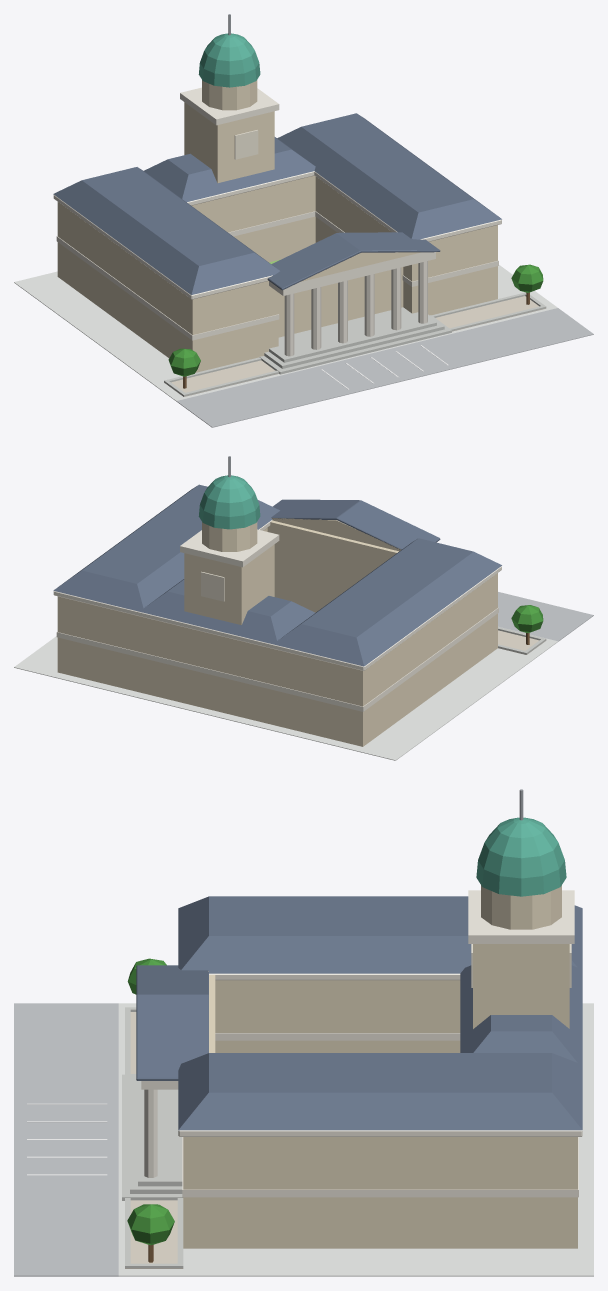
File: townhall.glb
3 renders of one model, top to bottom at view 1: azimuth 30°, elevation 25°; view 2: azimuth 150°, elevation 25°; view 3: azimuth 270°, elevation 25°, orthographic. The views are drawn at different scales.
Parts seen in each view (by area): view 1: townhall; view 2: townhall; view 3: townhall.
Boxes of the visible parts, x1,y1,x2,y2 form: townhall: (14, 14, 593, 427); townhall: (14, 456, 593, 760); townhall: (14, 789, 593, 1276).
Bounding box in the file's own units: 40 × 24 × 36.
